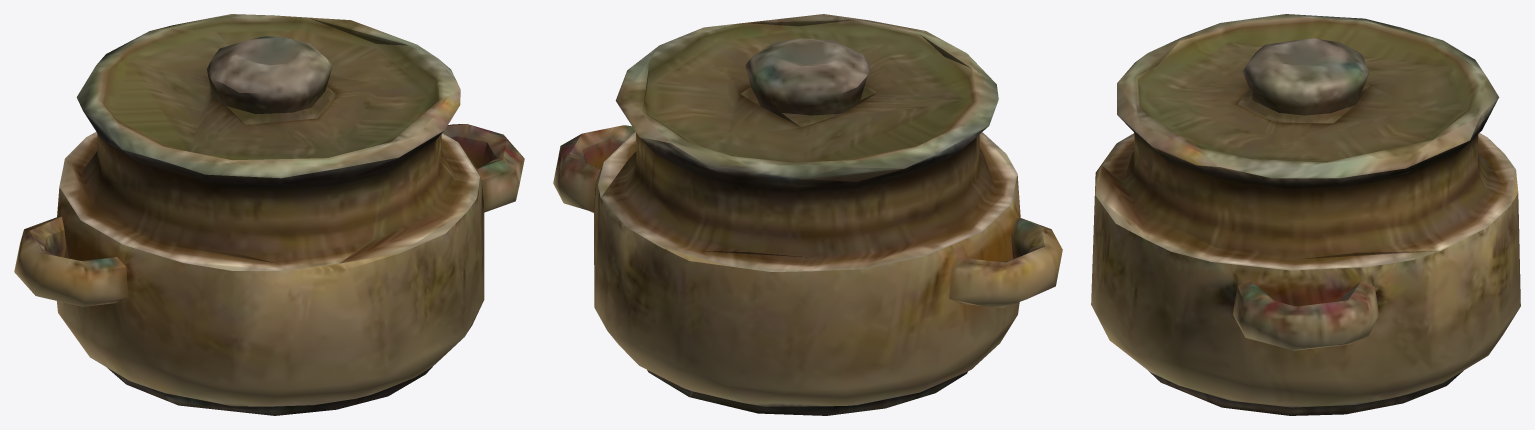
Rendered from pot.glb.
3 renders of one model, left to right at view 1: azimuth 30°, elevation 25°; view 2: azimuth 150°, elevation 25°; view 3: azimuth 270°, elevation 25°, orthographic.
Parts seen in each view (by area): view 1: pot; view 2: pot; view 3: pot.
Part boxes in pixels (x1,y1,x2,y2): pot: (14, 14, 524, 415); pot: (553, 14, 1062, 415); pot: (1091, 14, 1520, 415).
Bounding box in the file's own units: 0.6563 × 0.3712 × 0.4997.
1 material, 1 textured.
